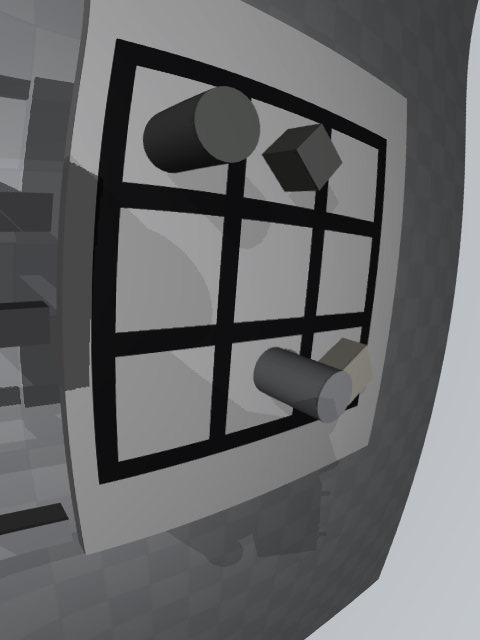can: (253, 347, 352, 424)
cube: (262, 123, 342, 192)
cylinder: (143, 86, 260, 173)
foam: (318, 338, 373, 404)
